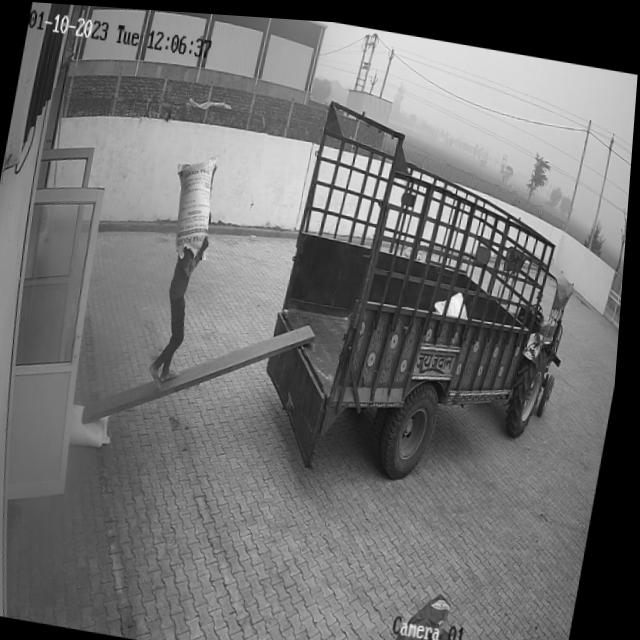sack: (165, 145, 226, 260), (70, 400, 121, 448)
